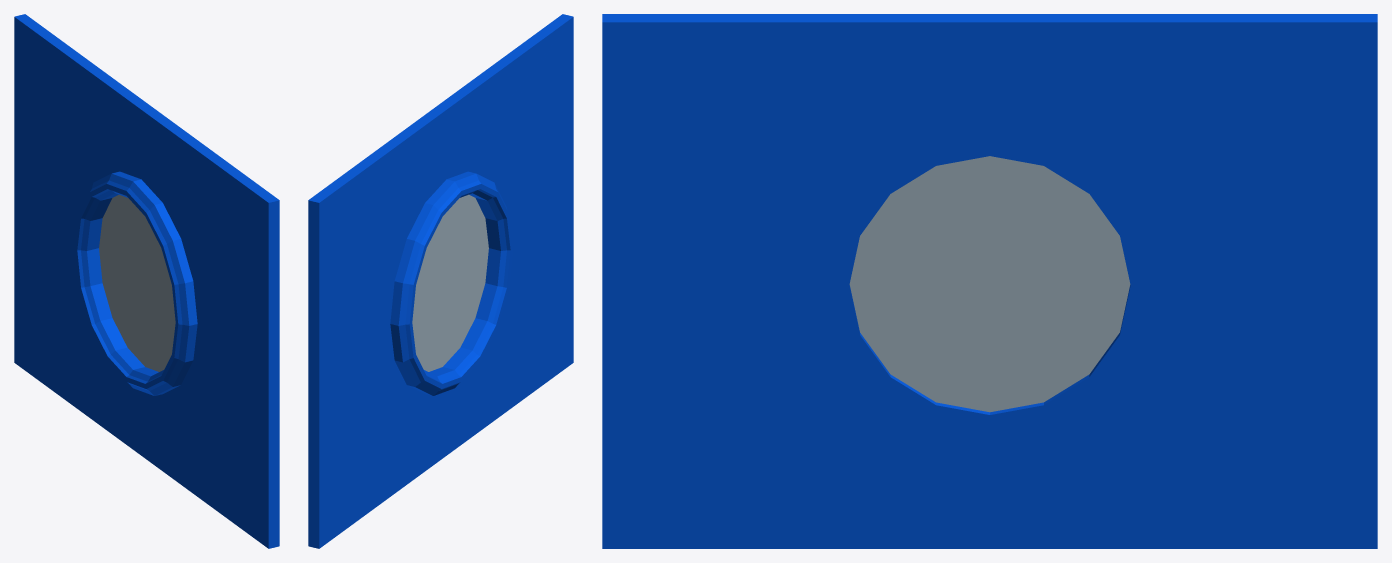
File: room.window.fbx
3 renders of one model, left to right at view 1: azimuth 30°, elevation 25°; view 2: azimuth 150°, elevation 25°; view 3: azimuth 270°, elevation 25°, orthographic. The views are drawn at different scales.
Parts seen in each view (by area): view 1: room.wall.002, capsule.window.001; view 2: room.wall.002, capsule.window.001; view 3: room.wall.002, capsule.window.001.
Boxes of the visible parts, <box> form: room.wall.002: <box>14,14,279,548</box>; capsule.window.001: <box>99,194,175,371</box>; room.wall.002: <box>308,14,573,548</box>; capsule.window.001: <box>412,194,488,371</box>; room.wall.002: <box>602,14,1377,548</box>; capsule.window.001: <box>849,156,1130,412</box>.
Size of the model in its own units: 23.6 by 300 by 400.
